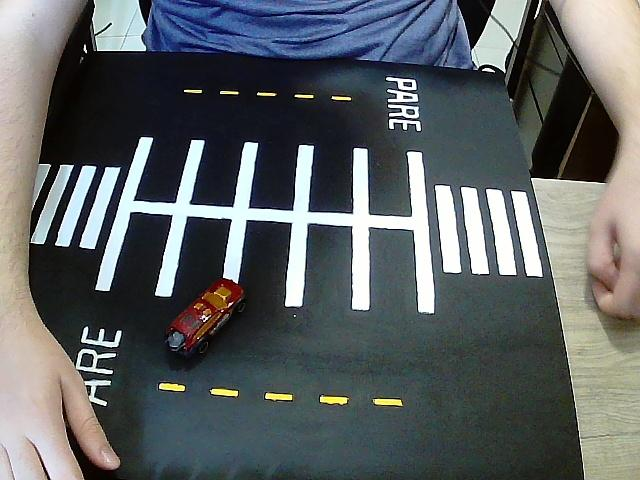Carro: (166, 279, 246, 360)
